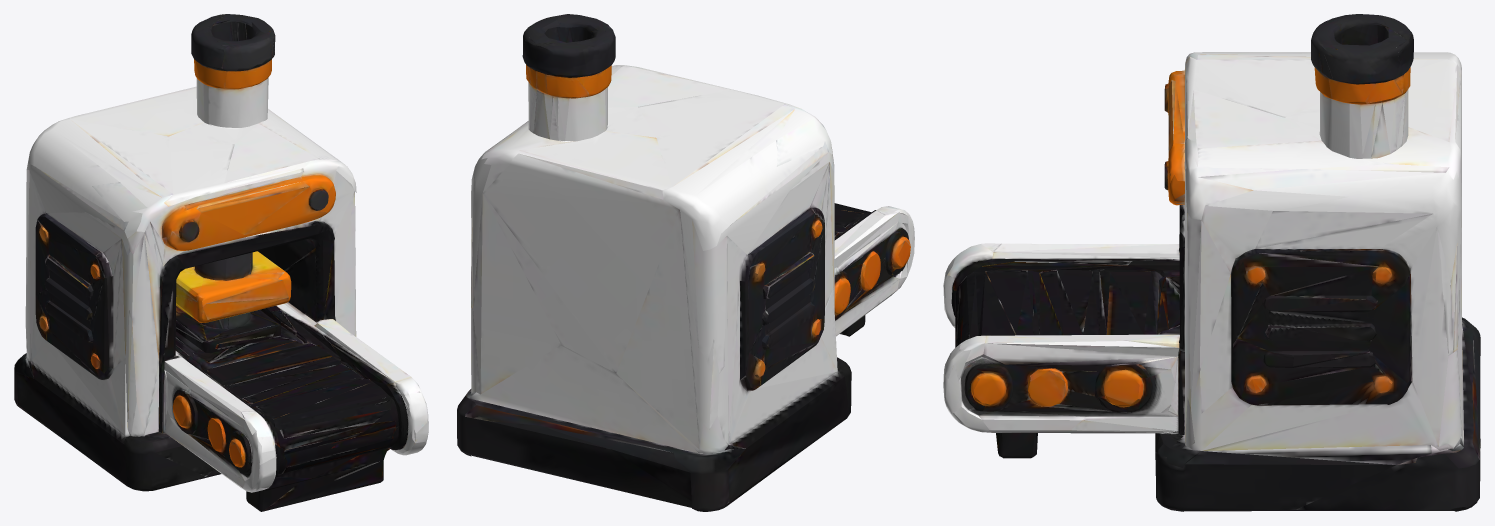
The picture shows the model from 3 angles, left to right: view 1: azimuth 30°, elevation 25°; view 2: azimuth 150°, elevation 25°; view 3: azimuth 270°, elevation 25°; orthographic projection. The views are drawn at different scales.
Bounding box in the file's own units: 1.25 × 1.73 × 1.9.
1 material, 1 textured.
